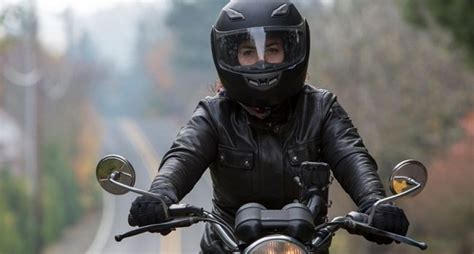com_capacete: (207, 1, 315, 112)
